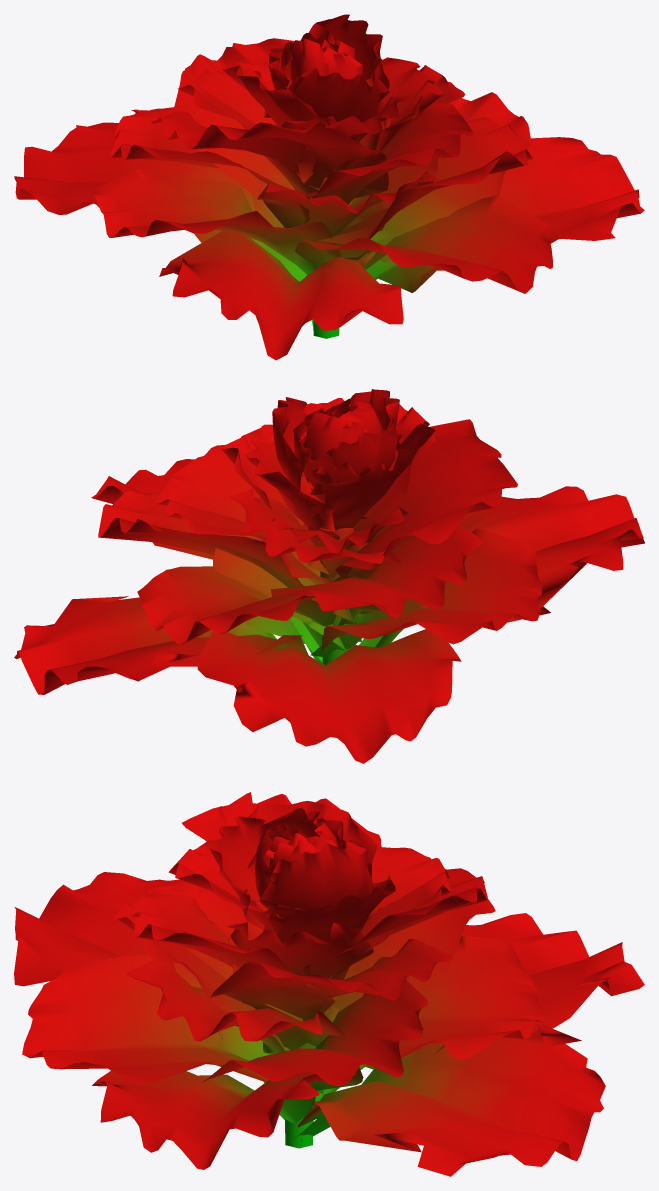
Rendered from Purple Ornamental Kale_LOD0_Var5_ugdieawja.fbx.
3 views of the same model, one above another, from view 1: azimuth 30°, elevation 25°; view 2: azimuth 150°, elevation 25°; view 3: azimuth 270°, elevation 25° (orthographic). The views are drawn at different scales.
Parts seen in each view (by area): view 1: _dae6_Var5_LOD0; view 2: _dae6_Var5_LOD0; view 3: _dae6_Var5_LOD0.
Boxes of the visible parts, x1,y1,x2,y2 form: _dae6_Var5_LOD0: (14,14,644,360); _dae6_Var5_LOD0: (14,389,644,763); _dae6_Var5_LOD0: (14,792,644,1176).
Bounding box in the file's own units: 42.75 × 25.18 × 44.66.
